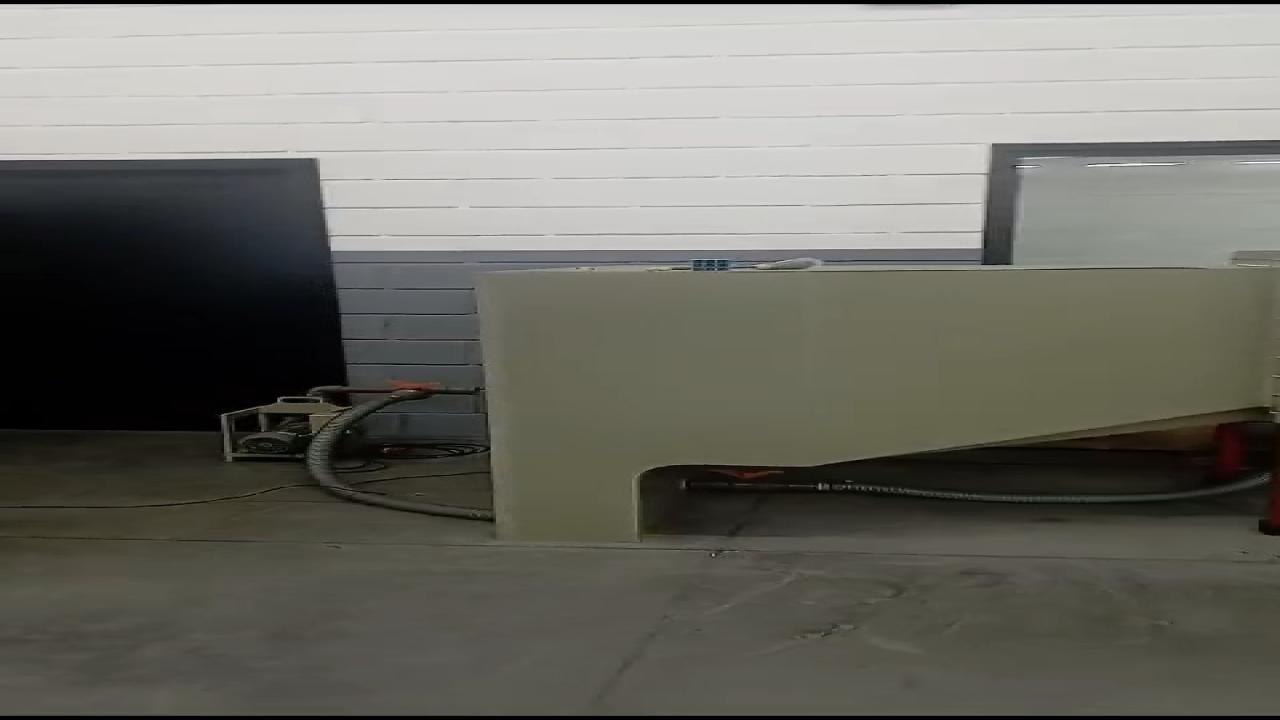Cube: (684, 255, 744, 271)
